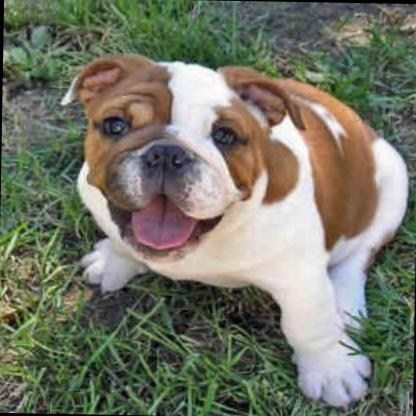bull_mastiff: (51, 49, 408, 410)
